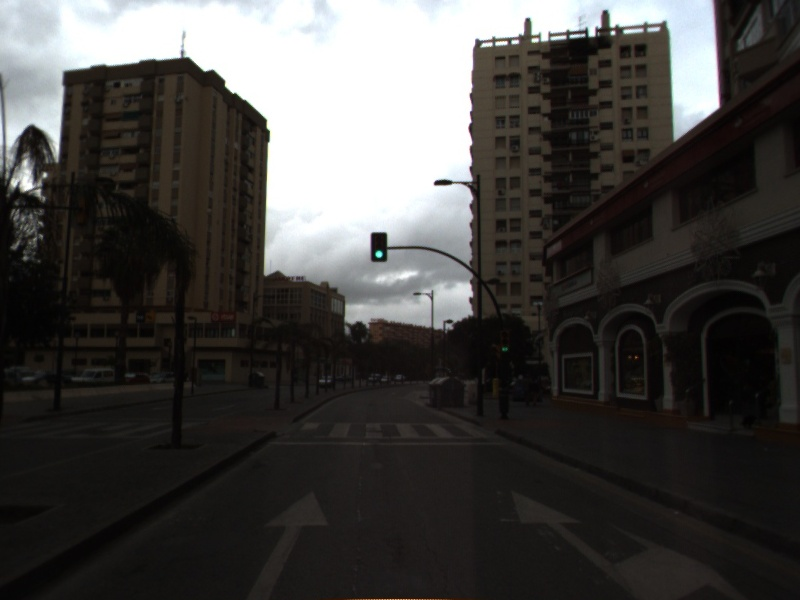STRAIGHT: (242, 486, 334, 600)
STRAIGHT_RIGHT: (506, 487, 747, 600)
